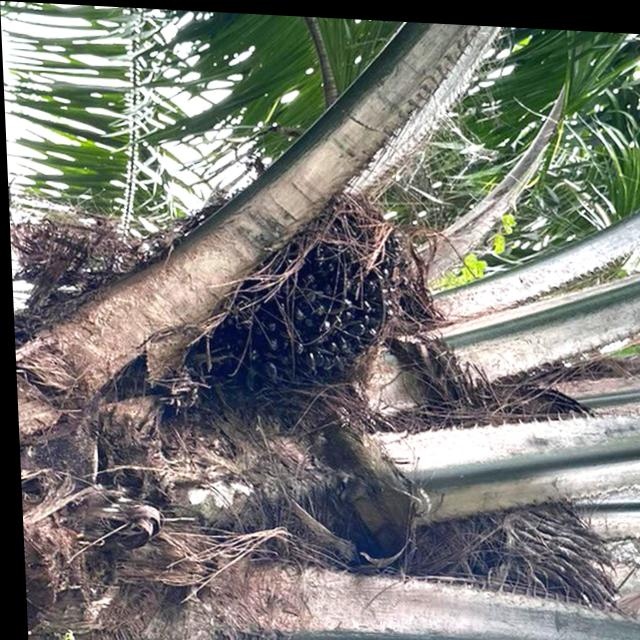unripe: (195, 168, 427, 416)
